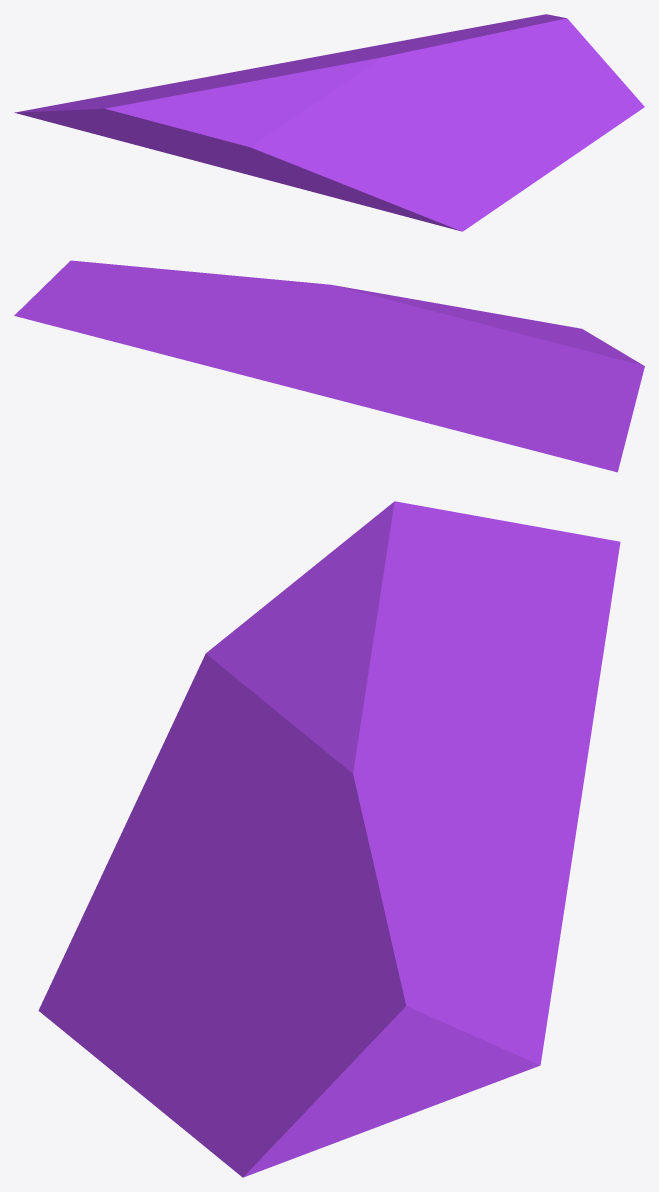
The model's file is Window_148_4_chunks.fbx.
3 renders of one model, top to bottom at view 1: azimuth 30°, elevation 25°; view 2: azimuth 150°, elevation 25°; view 3: azimuth 270°, elevation 25°, orthographic. The views are drawn at different scales.
Parts seen in each view (by area): view 1: Window_148_4_2, Window_148_4_0, Window_148_4_3, Window_148_4_1; view 2: Window_148_4_3, Window_148_4_0, Window_148_4_2, Window_148_4_1; view 3: Window_148_4_2, Window_148_4_0, Window_148_4_3, Window_148_4_1.
Boxes of the visible parts, box(x1,y1,x2,y2) form: Window_148_4_2: box(390, 14, 644, 231); Window_148_4_0: box(26, 59, 417, 214); Window_148_4_3: box(197, 22, 500, 78); Window_148_4_1: box(14, 78, 408, 217); Window_148_4_3: box(64, 280, 429, 418); Window_148_4_0: box(341, 286, 644, 457); Window_148_4_2: box(14, 260, 285, 328); Window_148_4_1: box(412, 377, 621, 472); Window_148_4_2: box(38, 793, 546, 1177); Window_148_4_0: box(74, 501, 589, 934); Window_148_4_3: box(333, 697, 593, 1021); Window_148_4_1: box(501, 536, 620, 719).
Bounding box in the file's own units: 798 × 175 × 375.
